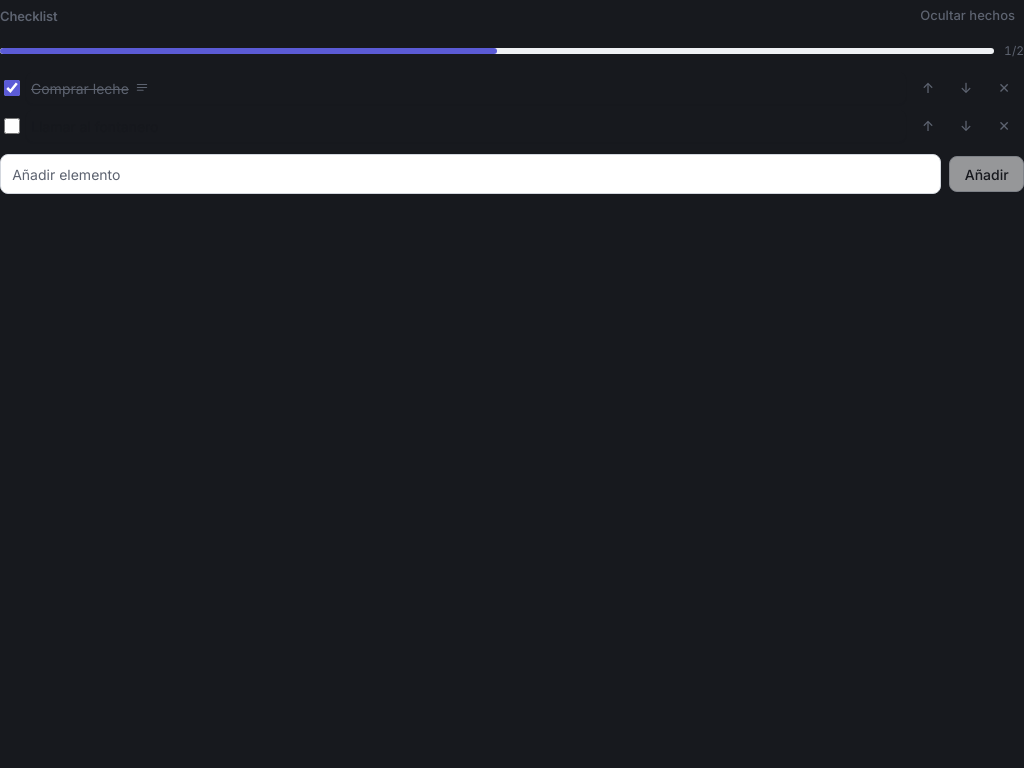
Test: Checklist › carga la descripción del elemento y la guarda con PATCH
Step 1. Click the button with aria-label "Abrir «Comprar leche»" → [80, 88], box [26,72,906,104]
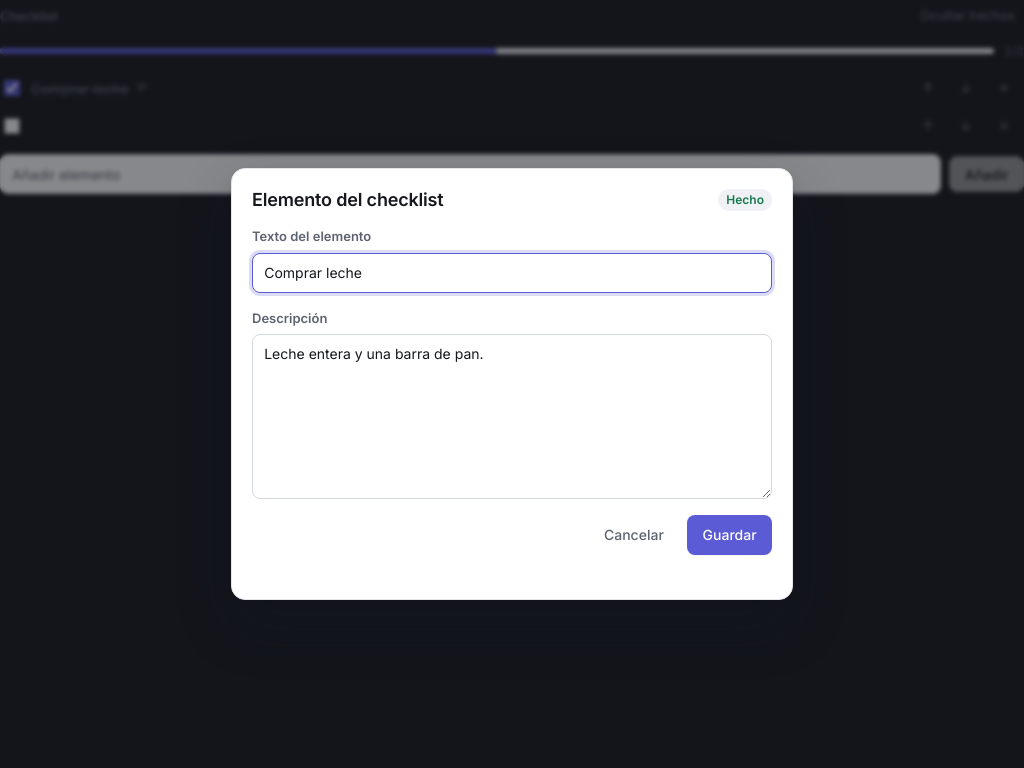
Expected: the text box labelled "Descripción" holds "Leche entera y una barra de pan."
Step 2. Replace the text in the text box labelled "Descripción" with "Leche entera, pan y huevos." → [512, 417], box [252,334,772,499]
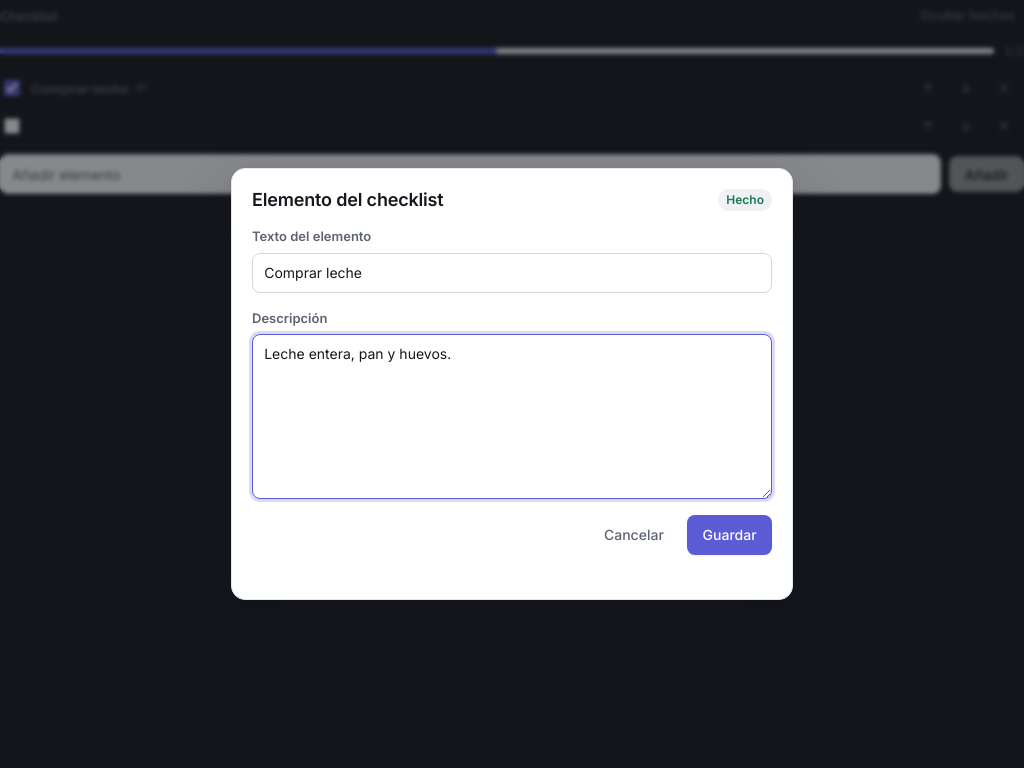
Step 3. Click the button "Guardar" → [730, 535], box [687,515,772,555]
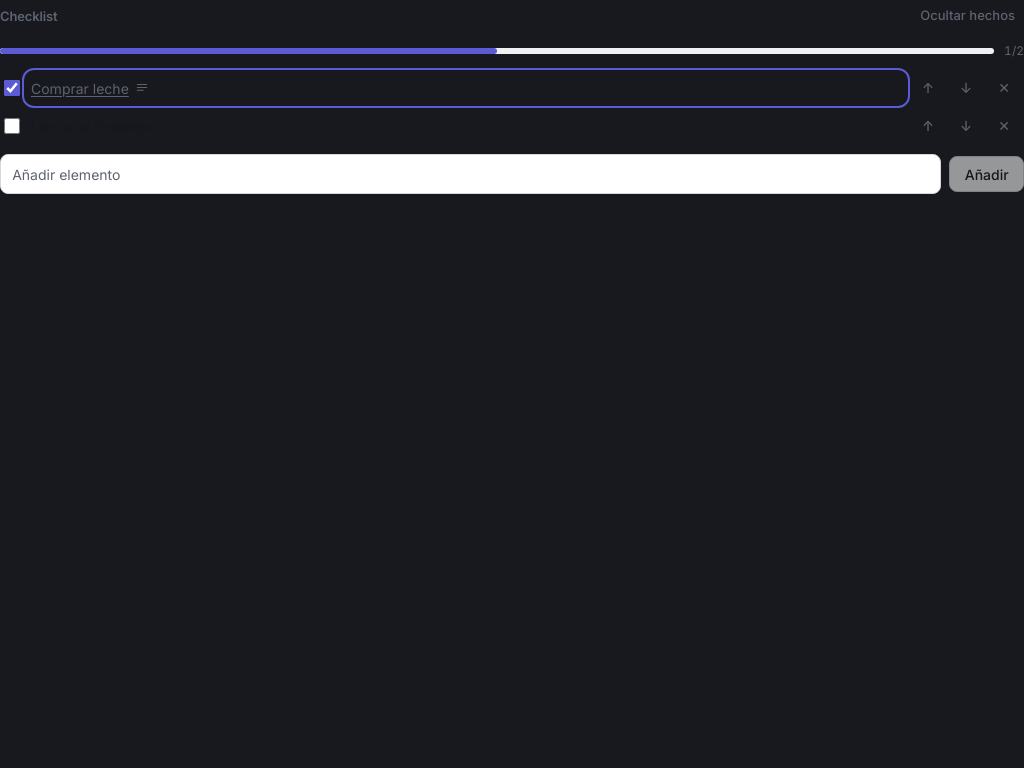
Expected: the dialog is gone
